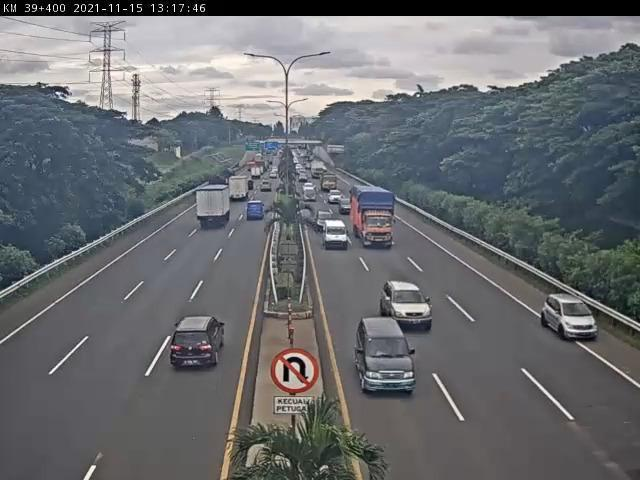car: (356, 316, 418, 395), (169, 316, 226, 372), (540, 291, 600, 341), (380, 281, 435, 331), (325, 221, 354, 254), (244, 200, 267, 223), (316, 211, 340, 232), (338, 196, 357, 215)
truck: (351, 185, 396, 250), (197, 186, 233, 226), (228, 174, 252, 205)
